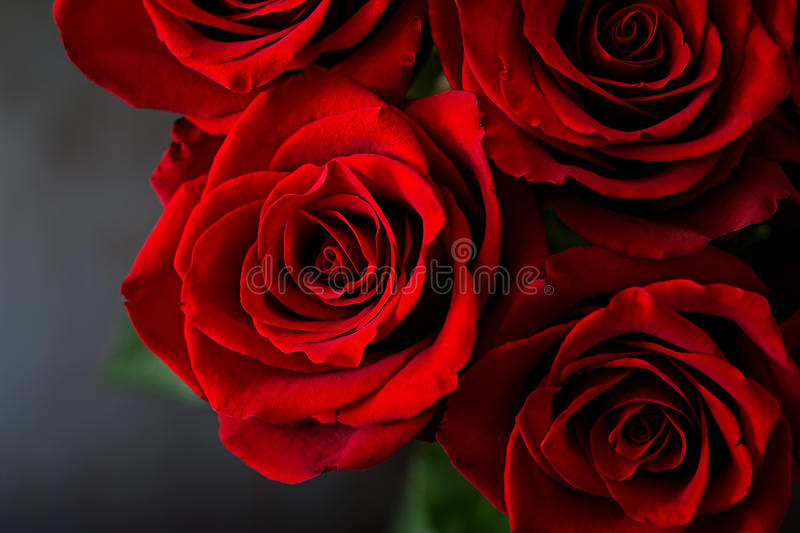RedRose: (113, 59, 507, 488), (423, 0, 800, 263), (438, 269, 800, 533), (34, 0, 435, 133)
